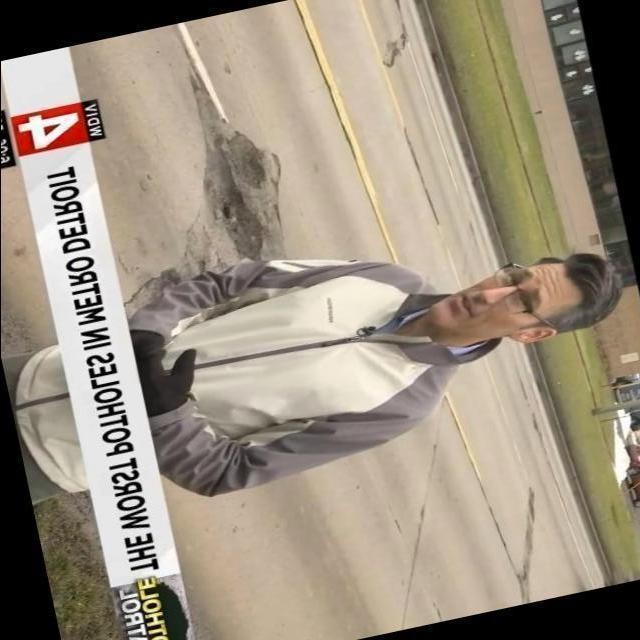pothole: (125, 62, 285, 316), (179, 62, 285, 275)
